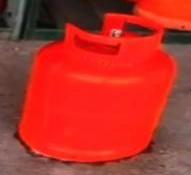cylinder: (1, 0, 191, 175)
